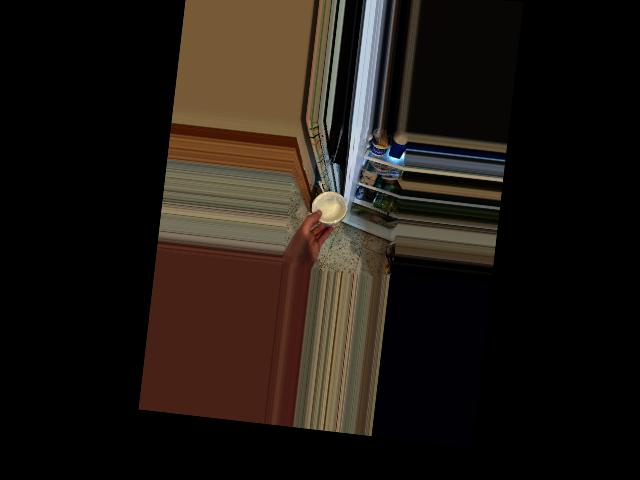cotage: (312, 185, 350, 225)
